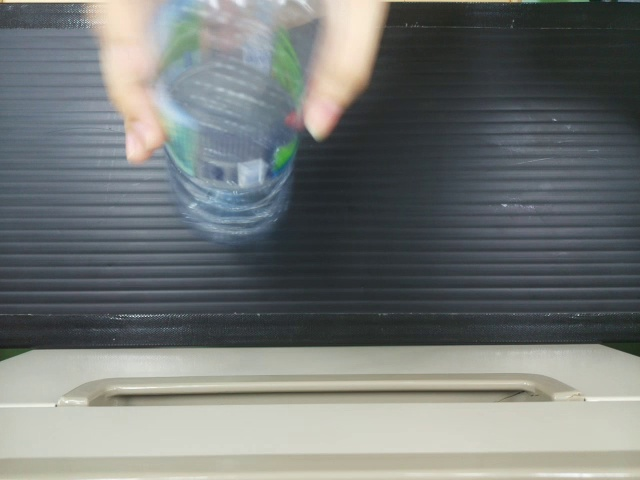bottle: (143, 0, 306, 231)
